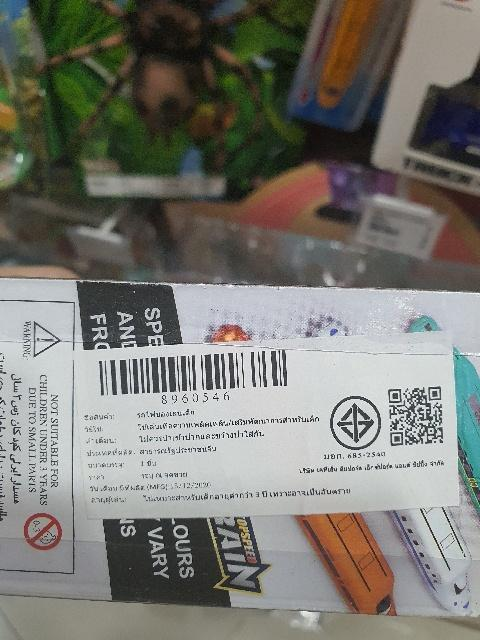Barcode: (91, 346, 300, 405)
